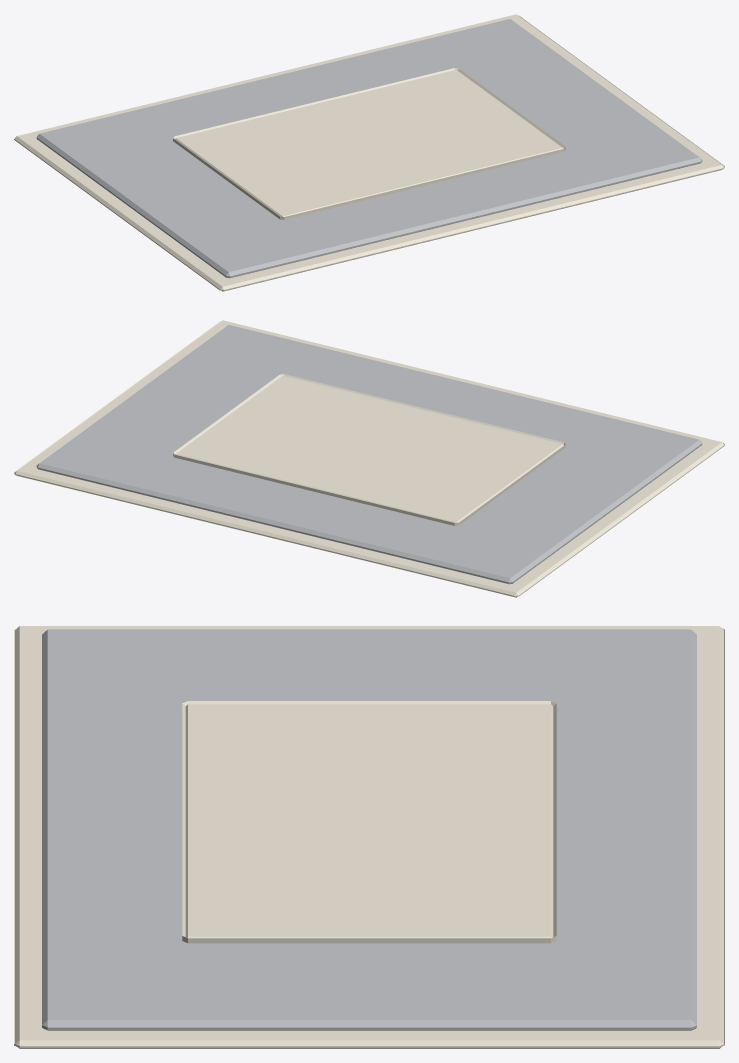
The picture shows the model from 3 angles, top to bottom: view 1: azimuth 30°, elevation 25°; view 2: azimuth 150°, elevation 25°; view 3: azimuth 270°, elevation 25°; orthographic projection. The views are drawn at different scales.
Parts seen in each view (by area): view 1: 毯面, 中心纹, 边条; view 2: 毯面, 中心纹, 边条; view 3: 毯面, 中心纹, 边条.
Part boxes in pixels (box(x1,y1,x2,y2)): 毯面: box(36, 19, 702, 278); 中心纹: box(173, 68, 565, 219); 边条: box(14, 14, 724, 291); 毯面: box(36, 325, 702, 584); 中心纹: box(173, 374, 565, 525); 边条: box(14, 320, 724, 597); 毯面: box(42, 629, 696, 1030); 中心纹: box(182, 701, 556, 943); 边条: box(14, 626, 724, 1048).
Size of the model in its own units: 212 by 5.2 by 152.
